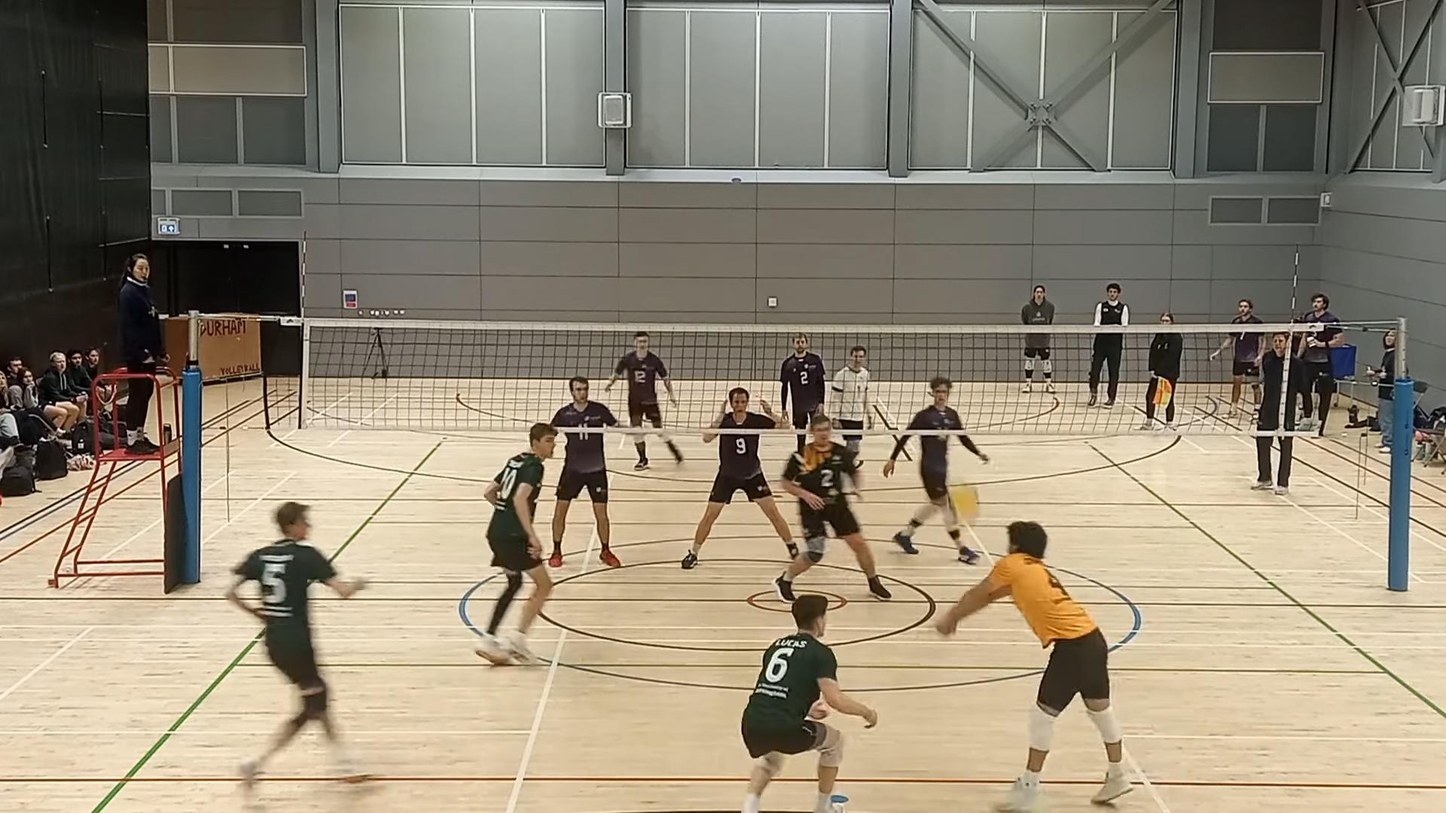Player: (227, 501, 365, 788), (741, 594, 877, 812), (774, 416, 891, 601), (682, 387, 798, 568), (476, 423, 557, 664), (883, 376, 978, 564), (548, 376, 620, 567), (604, 331, 677, 429), (779, 333, 825, 449), (828, 346, 871, 455)
Receive: (936, 522, 1134, 812)
